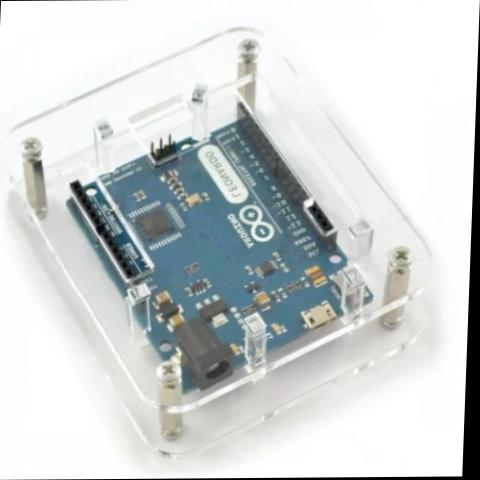Arduino-Leonardo: (51, 83, 397, 412)
